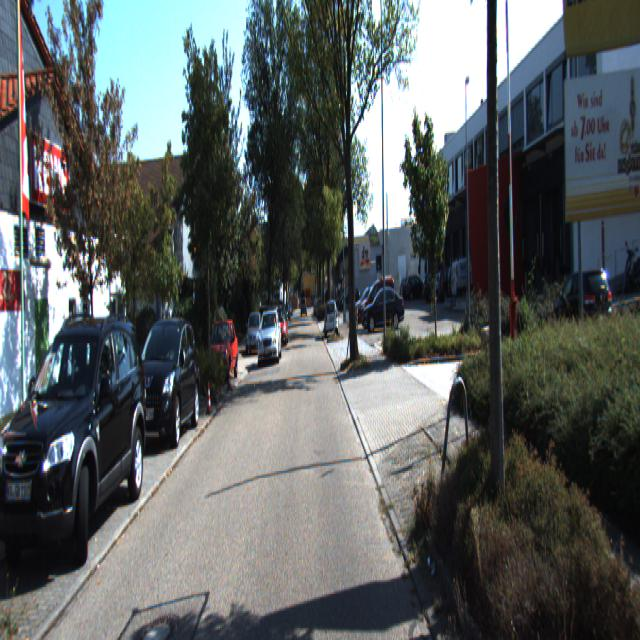Car: (0, 316, 152, 592), (128, 313, 202, 453), (204, 317, 239, 388), (450, 254, 493, 306), (360, 273, 398, 328), (362, 282, 406, 328), (257, 308, 283, 364), (324, 298, 338, 339)
